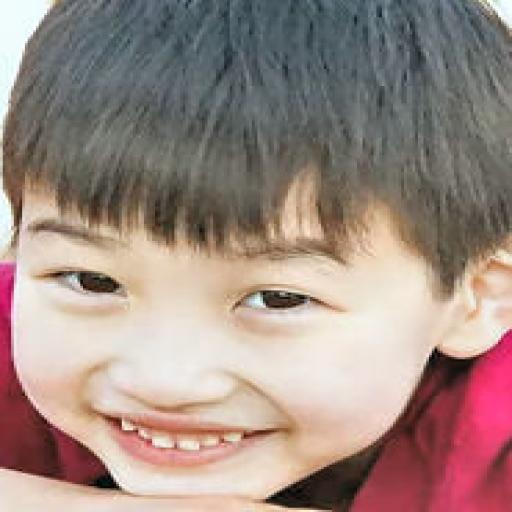Autism: (4, 12, 512, 487)
